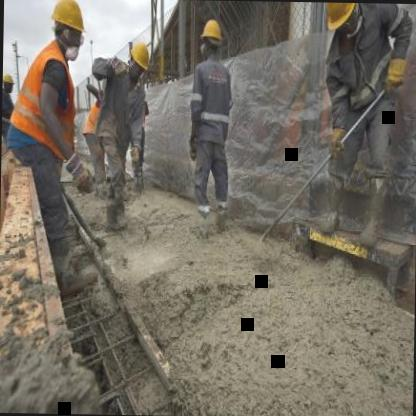helmet: (48, 0, 87, 58), (320, 2, 361, 47), (126, 34, 152, 82), (200, 15, 224, 60), (2, 70, 14, 96)
